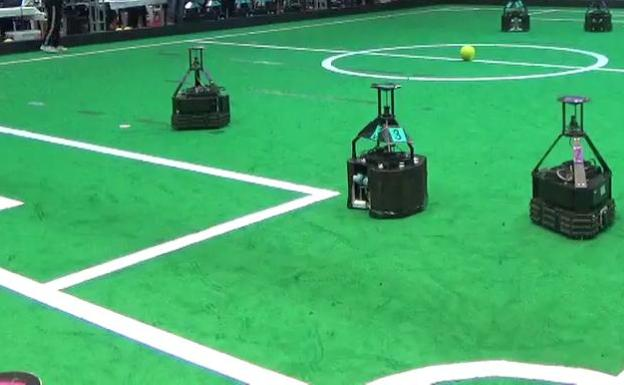robot: (521, 89, 622, 242), (342, 79, 437, 221), (167, 42, 235, 134)
